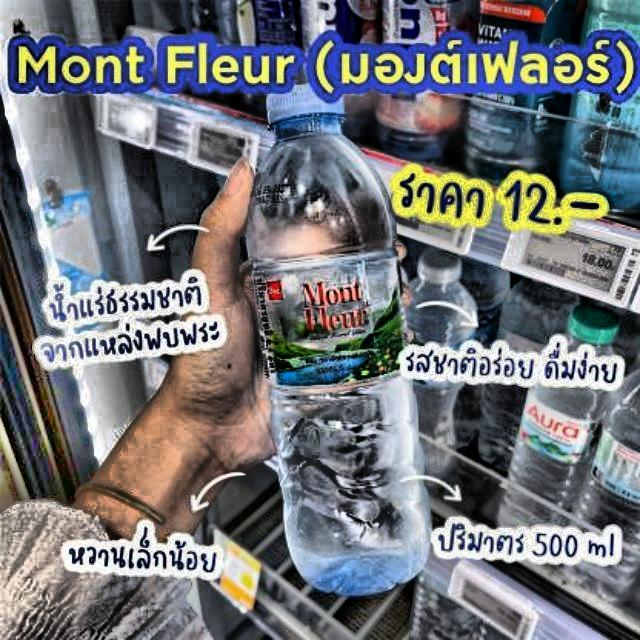Bottles: (221, 78, 444, 602)
